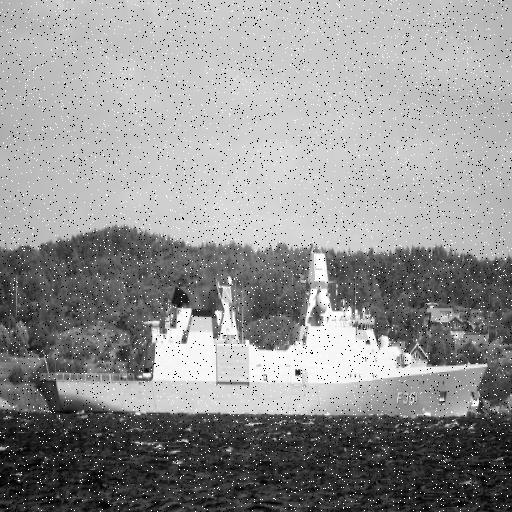Fragata: (39, 228, 490, 429)
